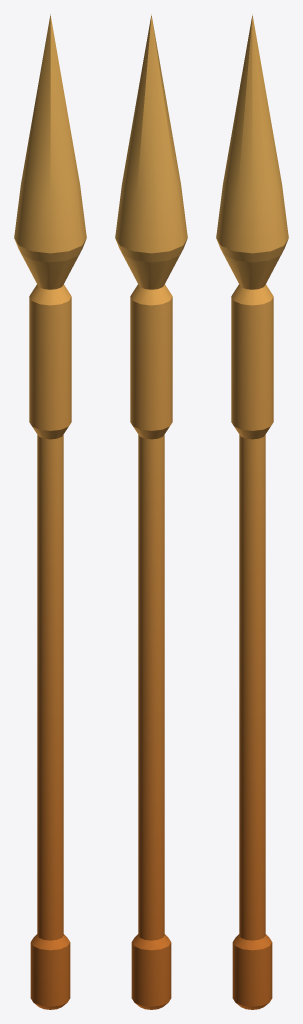
Rendered from Spear.fbx.
3 views of the same model, side by side, from view 1: azimuth 90°, elevation 25°; view 2: azimuth 150°, elevation 25°; view 3: azimuth 270°, elevation 25° (orthographic).
Visible parts, largest first — view 1: Staff_3; view 2: Staff_3; view 3: Staff_3.
Part boxes in pixels (<box>): Staff_3: <box>14,14,86,1009</box>; Staff_3: <box>115,14,187,1009</box>; Staff_3: <box>216,14,288,1009</box>.
Bounding box in the file's own units: 23.26 × 349 × 23.26.
